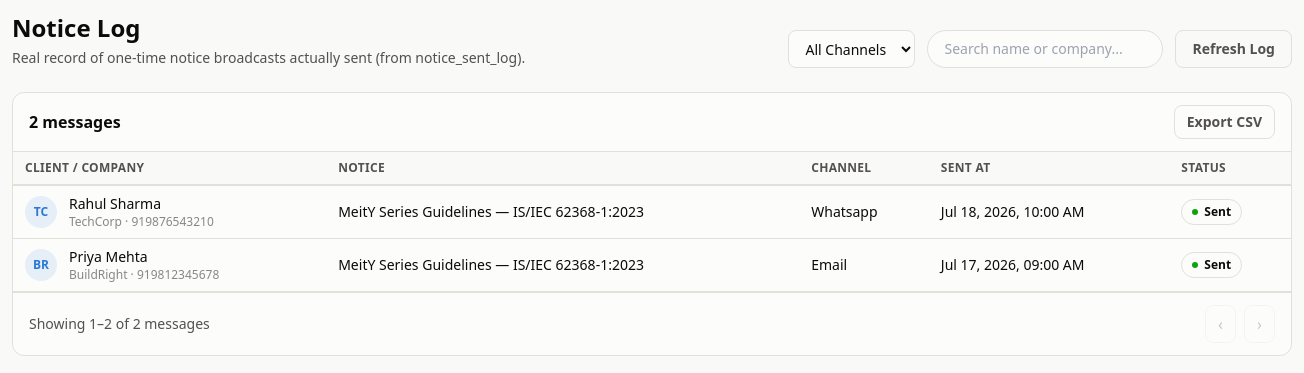
NoticeLogView › filters entries by search term
The image size is (1304, 373).
Expected: the text "Rahul Sharma" is shown, [69,194,161,213]
Type "priya" into the field named "Search notice log" at coordinates (1046, 49), box [928,30,1164,68]
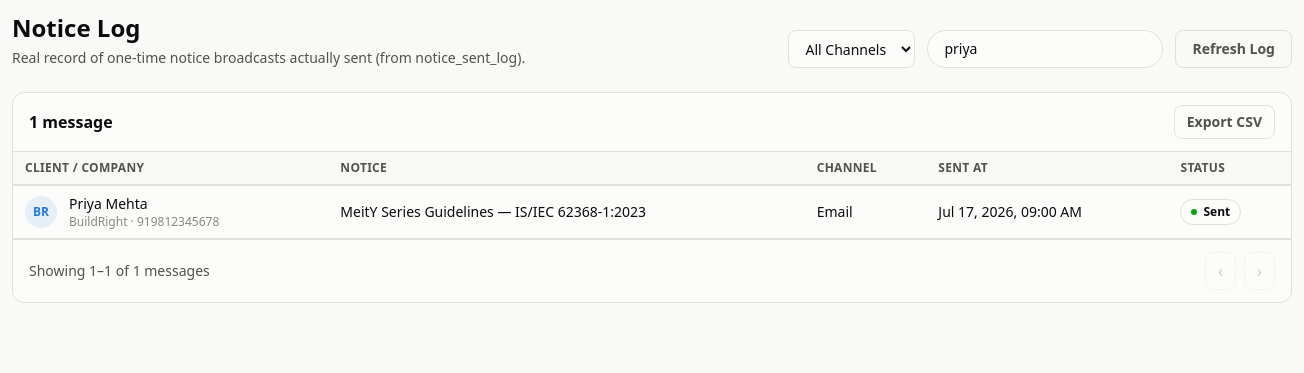
Expected: the text "Priya Mehta" is shown, [69,194,148,213]
Now the text "Rahul Sharma" is gone
